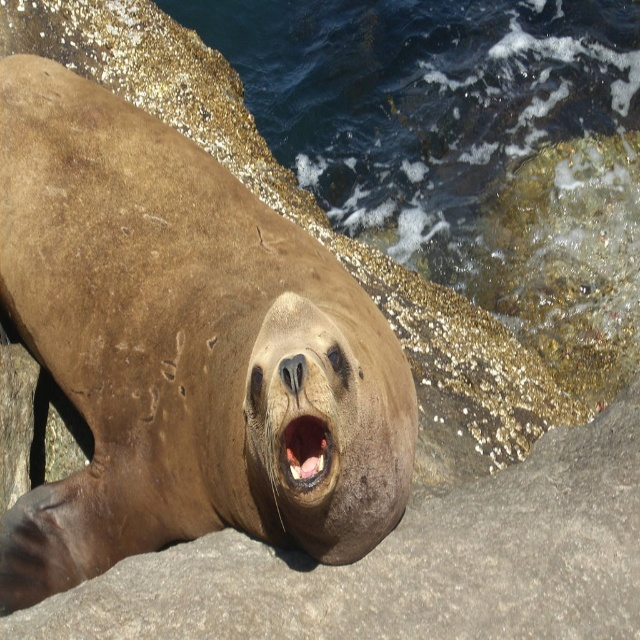Harbor seal: (0, 53, 418, 618)
